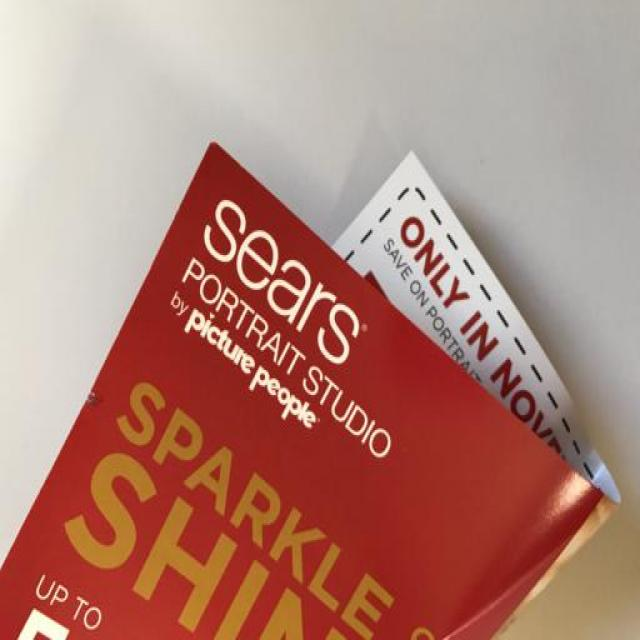paper: (2, 114, 640, 640)
